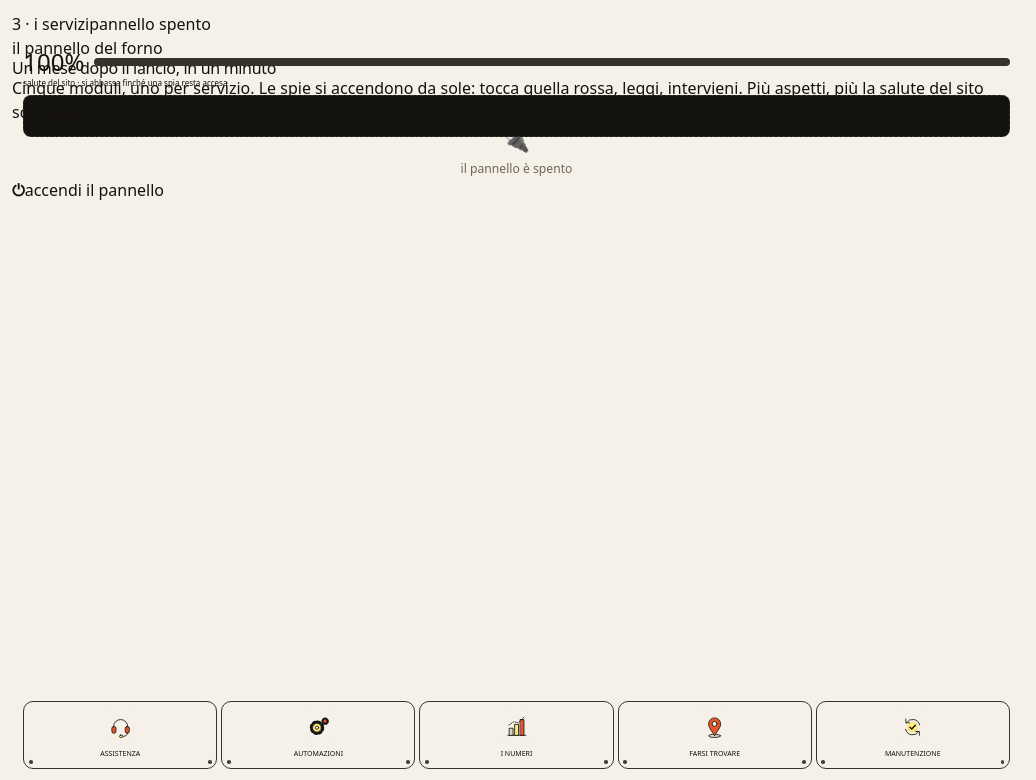
Test: il pannello, i moduli › il modulo sbagliato dice che li' e' tutto a posto, e non c'e' niente da fare
This screenshot has width=1036, height=780.
What coordinates should you click on to do the following:
click the button "⏻accendi il pannello"
I would click on:
 (88, 190)
Its box is [12,178,164,202].
Wait 1400 ms
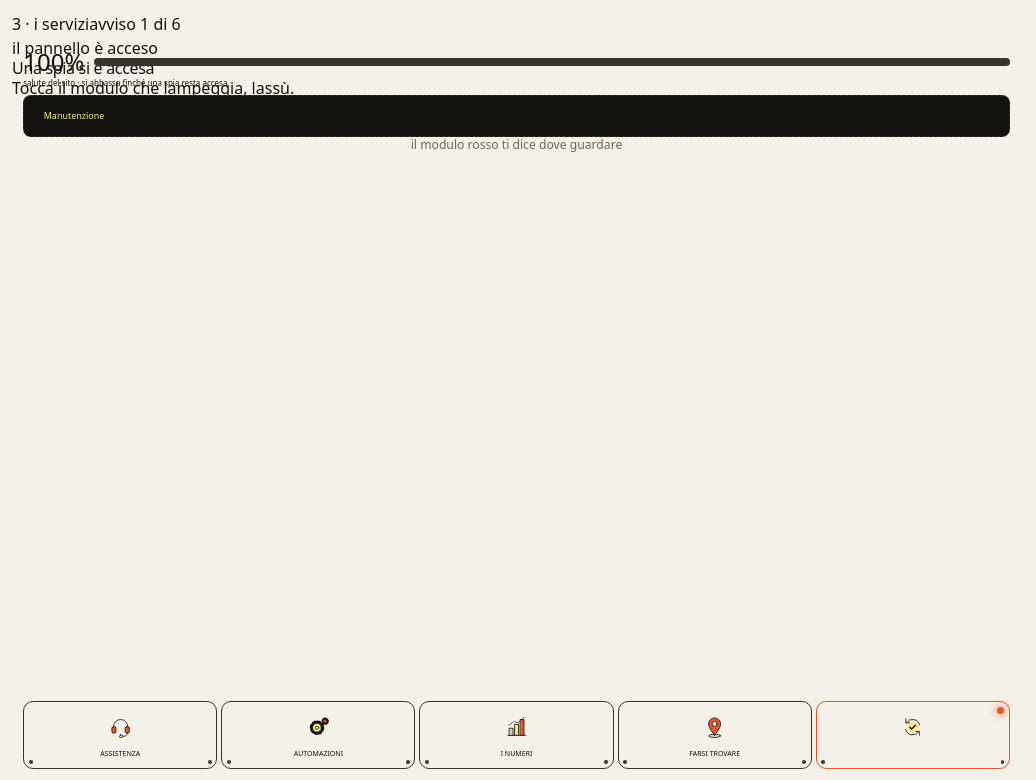
What coordinates should you click on to do the following:
click the button "Assistenza"
I would click on:
 (120, 735)
Its box is [23,701,217,769].
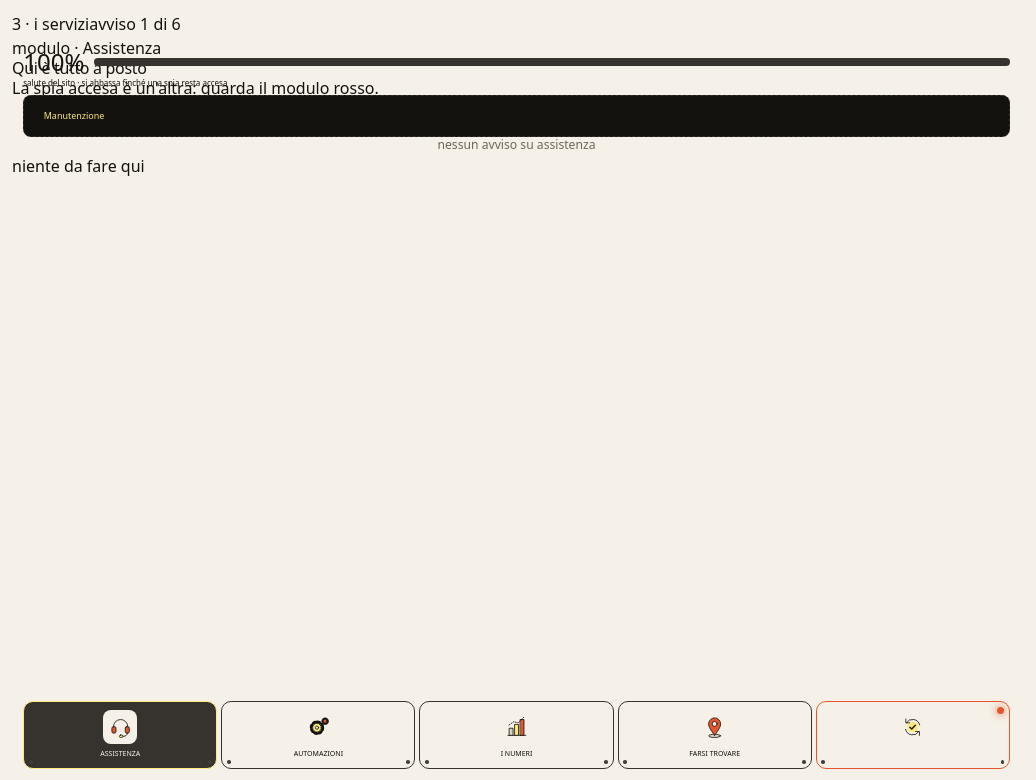
Check: the heading "Qui è tutto a posto" is shown, box [12,57,147,79]
Check: the text "La spia accesa è un'altra: guarda il modulo rosso." is shown, box [12,78,379,100]
Check: the button "niente da fare qui" is disabled, box [12,154,145,178]
